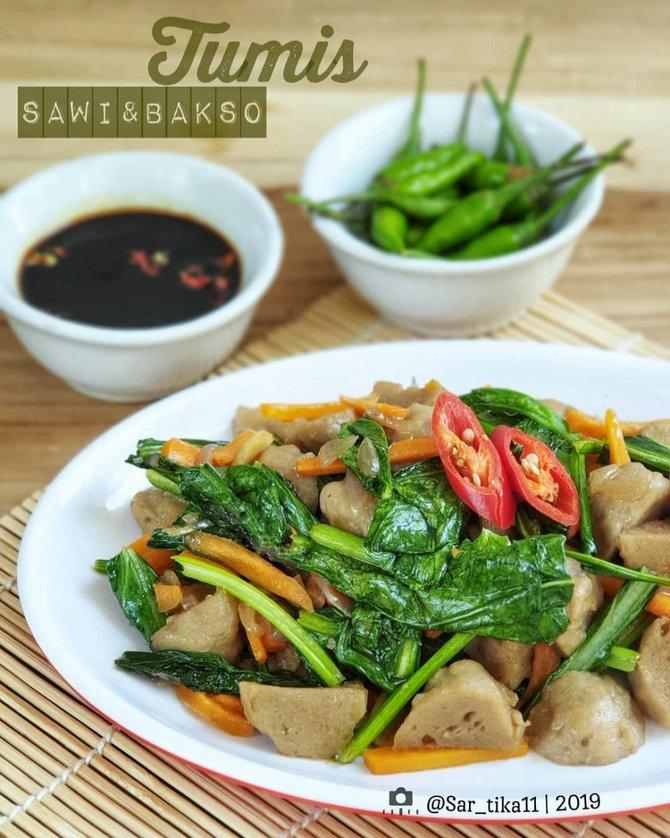buah_sayur_lainnya: (176, 409, 654, 737)
